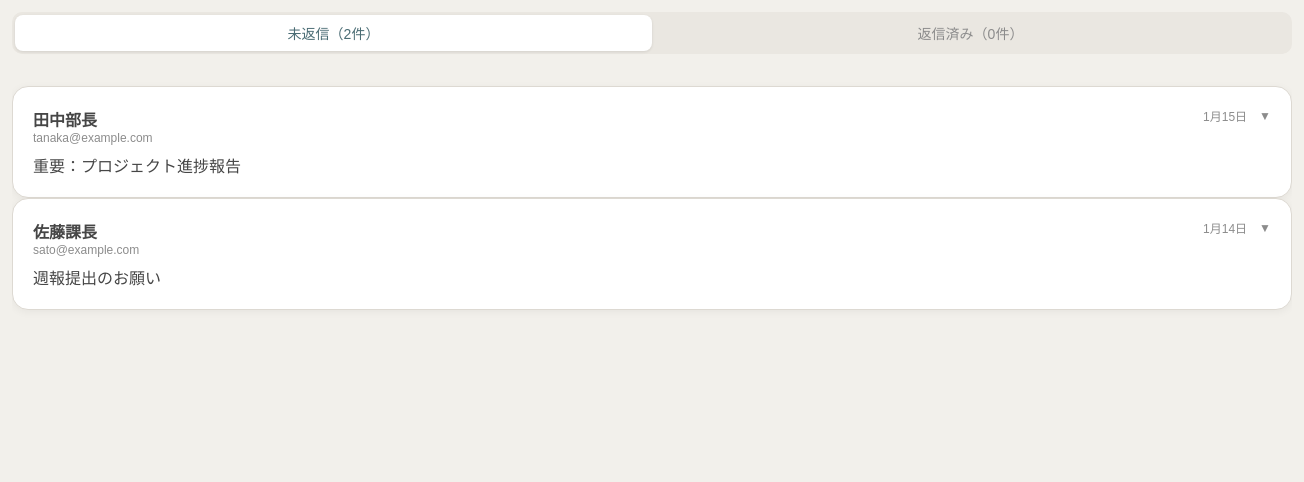
Test: EmailList › トグル形式 › should expand email card on header click
This screenshot has width=1304, height=482.
Check: the text "田中部長" is shown, box [33,112,97,129]
Check: the text "変換後テキスト1" is not shown
Click the button with class "email-card-header" that starts with "田中部長": (65, 120) [13,87,1291,197]
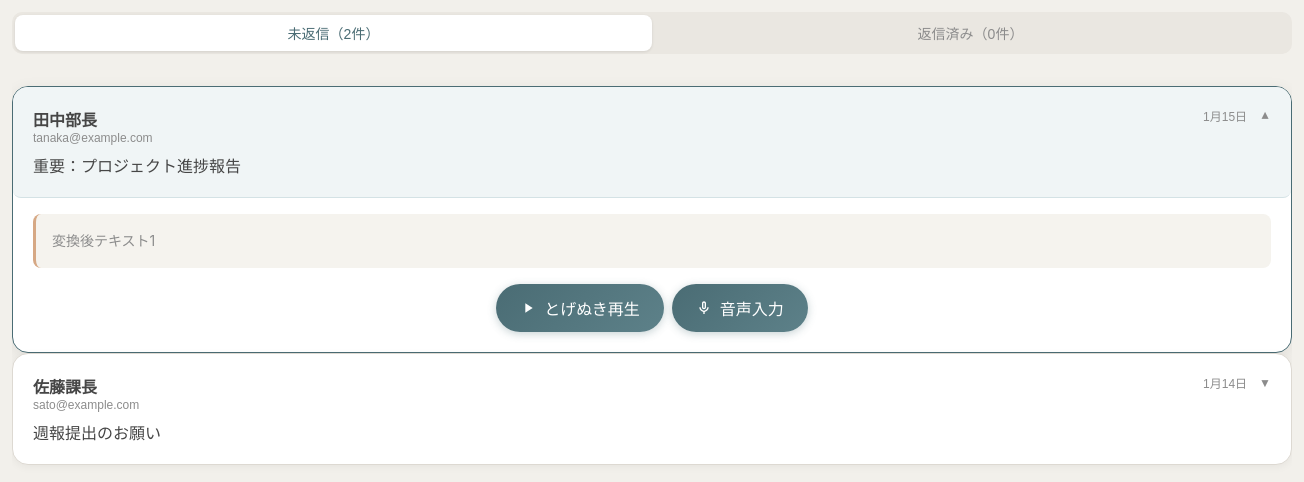
Check: the text "変換後テキスト1" is shown, box [33,214,1271,268]
